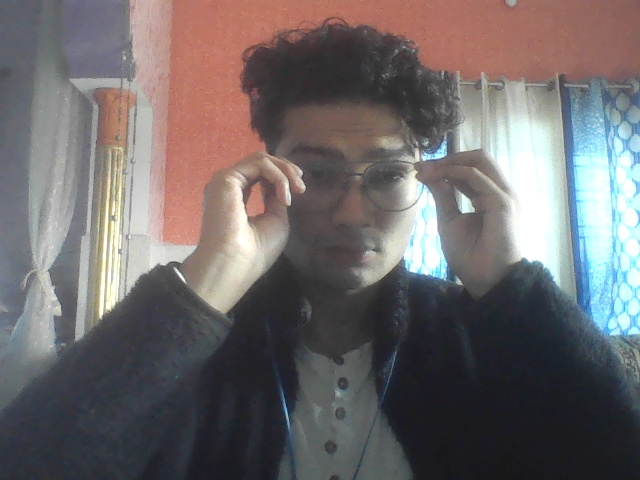real: (256, 46, 439, 306)
